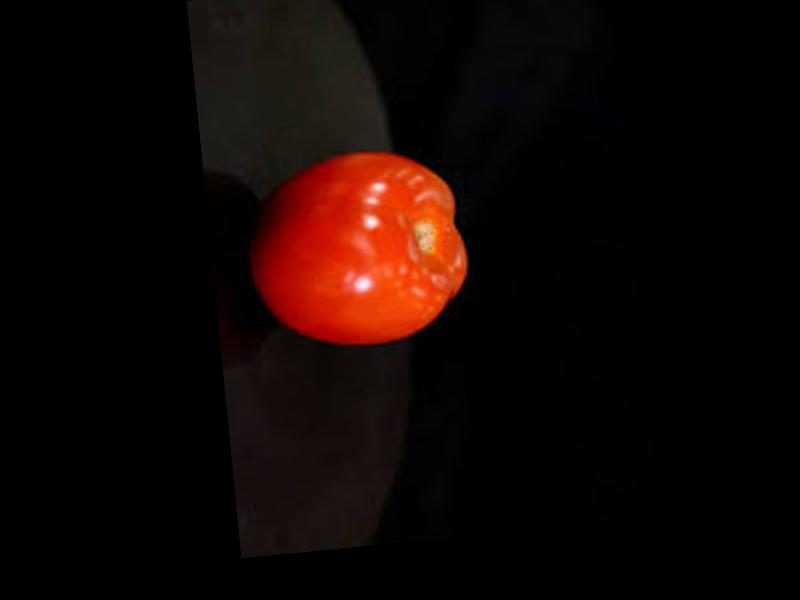Tomato: (245, 143, 475, 357)
